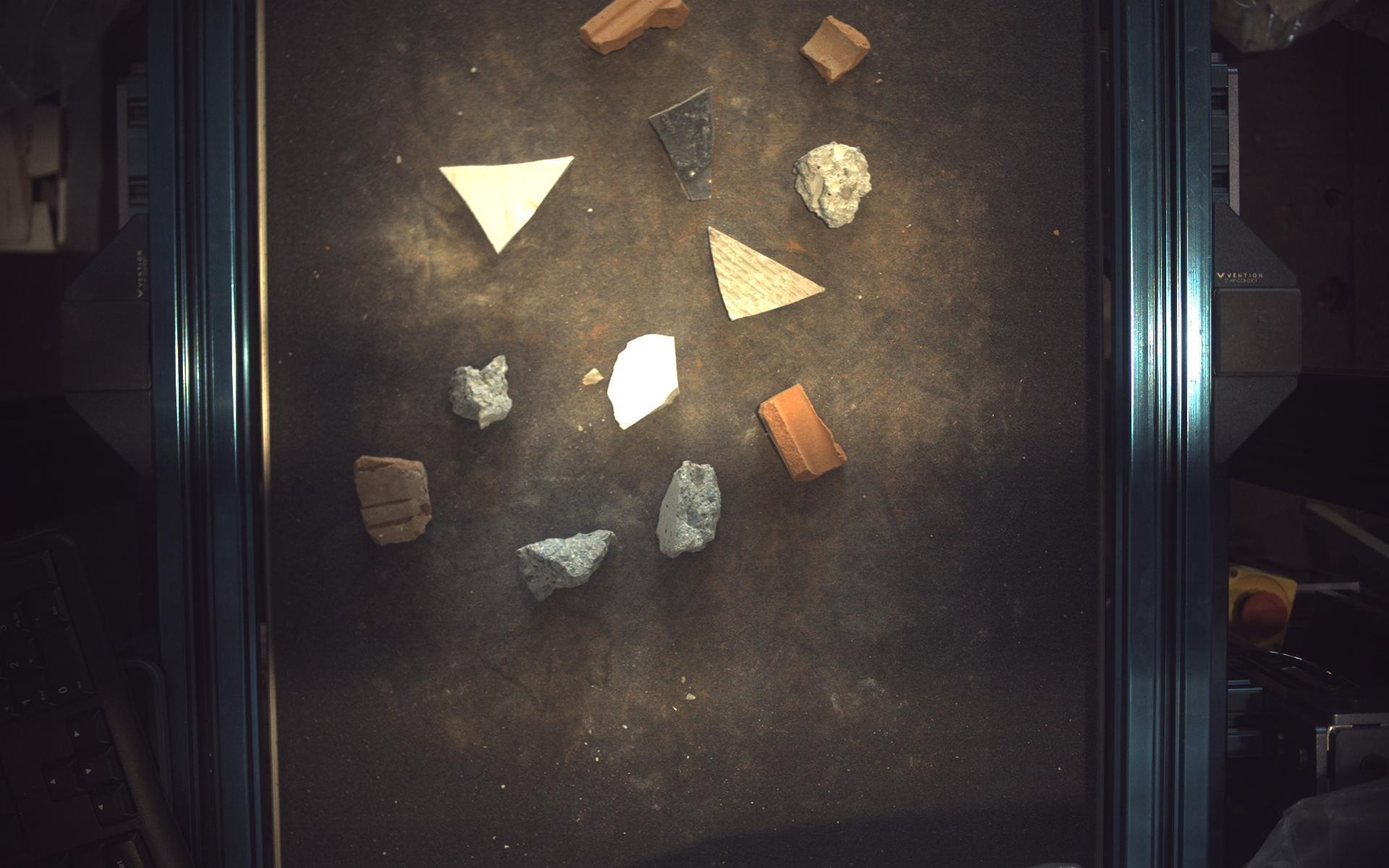brick: (759, 384, 849, 482), (352, 456, 432, 546), (580, 1, 689, 54), (802, 14, 872, 83)
concrete: (519, 530, 617, 602), (795, 140, 873, 228), (658, 461, 722, 558), (449, 354, 512, 428)
tile: (440, 156, 574, 252), (710, 226, 827, 320), (650, 87, 715, 200), (608, 333, 679, 429)
